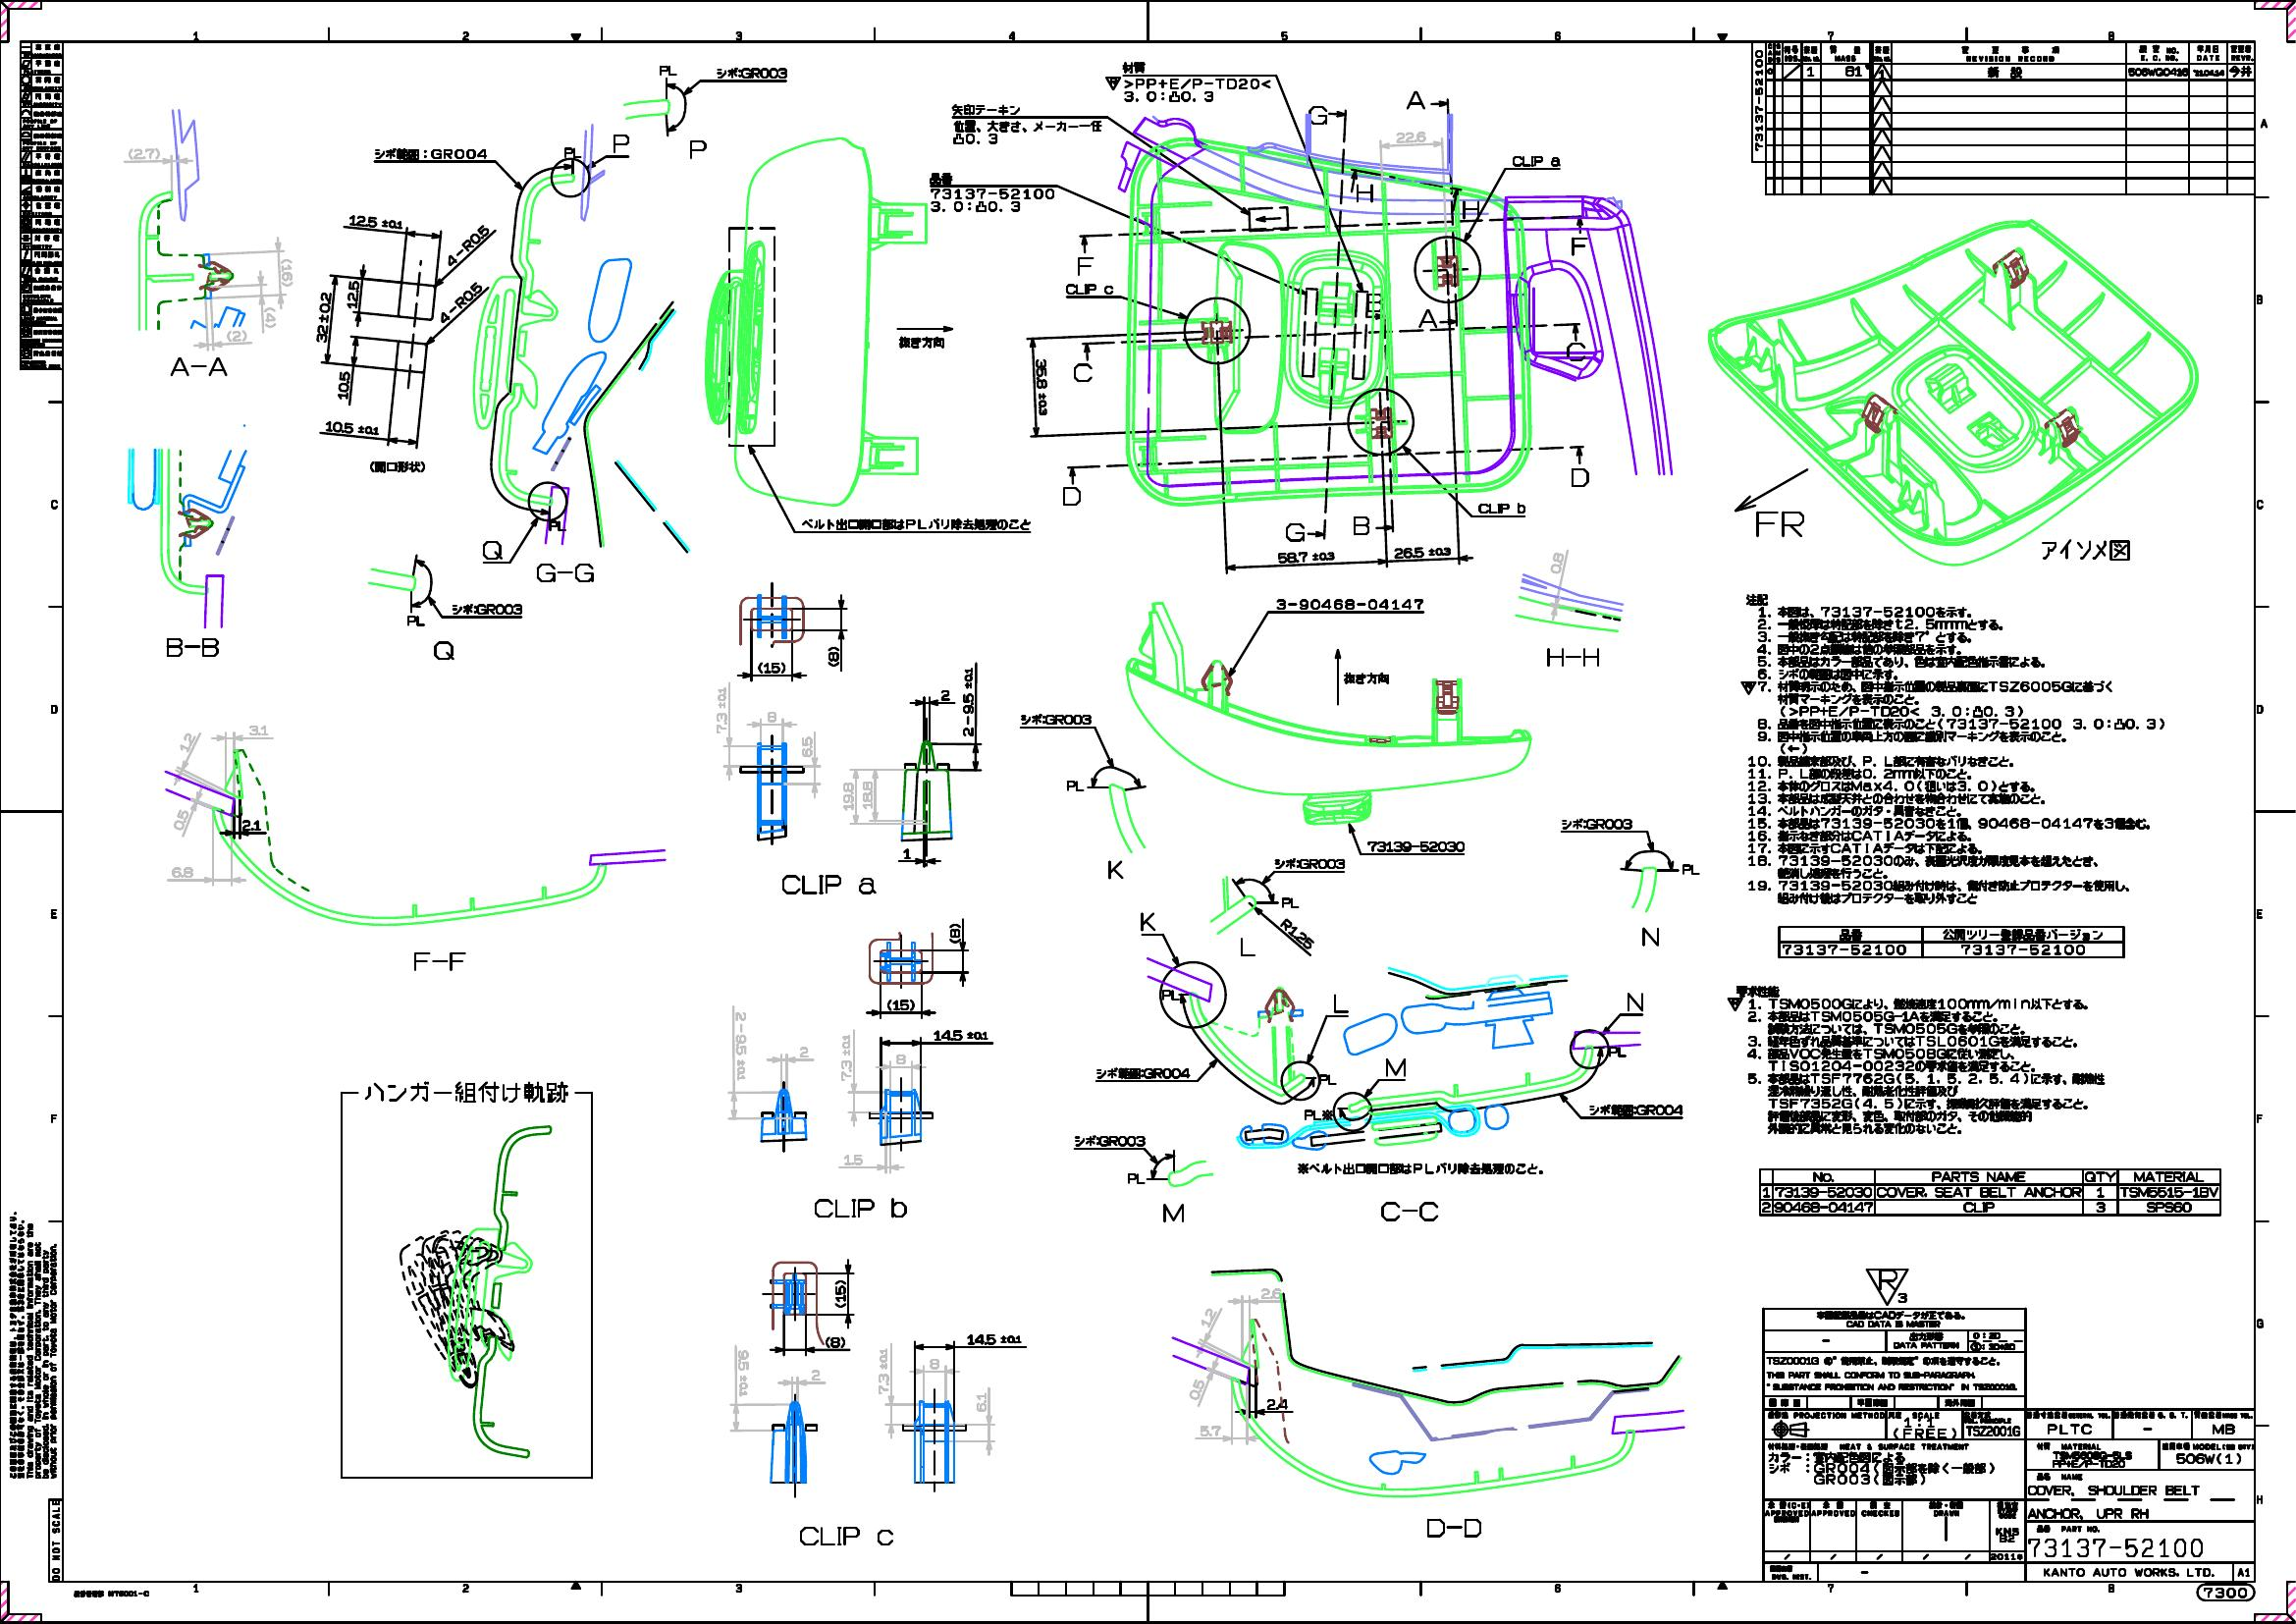anntotation_text: (1739, 591, 2166, 907), (1727, 984, 2105, 1135), (7, 1209, 60, 1480), (364, 1079, 569, 1104), (950, 102, 1105, 132), (1121, 60, 1272, 90), (801, 515, 1031, 531), (928, 170, 1056, 199), (1298, 1162, 1546, 1176), (780, 872, 878, 896), (812, 1197, 906, 1220), (2041, 540, 2131, 561), (1274, 598, 1423, 610), (799, 1526, 894, 1545), (1755, 508, 1806, 538), (1096, 1065, 1191, 1081), (169, 355, 230, 378), (374, 148, 488, 160), (1379, 1200, 1439, 1223), (1588, 1102, 1683, 1116), (1542, 645, 1600, 668), (1425, 1517, 1484, 1538), (413, 949, 466, 972), (1367, 840, 1463, 852), (163, 636, 220, 657), (536, 562, 596, 582), (1072, 1134, 1147, 1148), (2196, 1584, 2256, 1601), (715, 65, 787, 79), (1019, 712, 1091, 726), (450, 603, 523, 615), (1560, 817, 1632, 830), (1274, 858, 1346, 868), (369, 460, 427, 473), (72, 1589, 151, 1598), (1159, 1199, 1186, 1225), (1511, 155, 1560, 169), (1065, 281, 1114, 295), (1476, 501, 1525, 515), (1342, 671, 1390, 685), (899, 334, 945, 348), (1383, 1056, 1407, 1077), (432, 638, 455, 659), (1307, 104, 1328, 127), (1404, 90, 1426, 111), (1416, 308, 1439, 329), (1565, 341, 1588, 362), (1569, 466, 1590, 489), (481, 540, 502, 561), (1061, 485, 1082, 506), (1303, 1107, 1332, 1123), (1284, 522, 1307, 541), (1625, 990, 1643, 1014), (689, 139, 708, 160), (1460, 199, 1481, 218), (1351, 515, 1370, 536), (1107, 858, 1124, 881), (1073, 362, 1093, 381), (611, 132, 629, 153), (1356, 183, 1374, 204), (1075, 255, 1093, 276), (1365, 292, 1383, 313), (1570, 236, 1588, 257), (1238, 935, 1256, 956), (1641, 926, 1658, 947), (1332, 993, 1349, 1014), (1140, 909, 1156, 932), (1103, 74, 1123, 90), (1281, 895, 1300, 910), (1318, 1072, 1337, 1086), (1126, 1171, 1145, 1185), (657, 65, 678, 77), (562, 146, 581, 158), (1065, 779, 1084, 791), (1681, 861, 1700, 874), (406, 615, 427, 626), (1161, 990, 1179, 1000)
dimension_text: (1123, 90, 1214, 104), (929, 200, 1022, 213), (961, 666, 973, 738), (734, 1011, 747, 1081), (348, 214, 404, 228), (316, 290, 330, 343), (1277, 550, 1335, 562), (453, 274, 466, 330), (933, 1028, 989, 1040), (460, 218, 473, 272), (325, 422, 379, 434), (838, 1033, 852, 1081), (1393, 547, 1451, 557), (966, 1334, 1022, 1345), (950, 132, 998, 144), (715, 685, 727, 733), (738, 1348, 748, 1399), (878, 1348, 889, 1396), (346, 279, 360, 309), (337, 371, 350, 401), (841, 782, 854, 810), (1189, 1376, 1203, 1401), (1549, 550, 1563, 575), (1397, 132, 1426, 142), (863, 780, 873, 810), (1265, 1397, 1289, 1410), (843, 1153, 864, 1167), (1200, 1306, 1214, 1327), (132, 148, 155, 160), (801, 735, 813, 758), (1260, 1287, 1282, 1299), (181, 731, 193, 752), (174, 808, 186, 830), (241, 819, 262, 831), (1200, 1424, 1221, 1436), (170, 866, 193, 877), (975, 1392, 987, 1411), (248, 724, 269, 735), (281, 264, 293, 281), (834, 1285, 847, 1302), (892, 998, 908, 1011), (762, 663, 780, 673), (798, 1044, 810, 1058), (827, 650, 840, 663), (894, 1053, 906, 1065), (766, 710, 776, 722), (940, 689, 950, 701), (829, 1336, 840, 1348), (928, 1359, 940, 1369), (949, 928, 959, 939), (810, 1369, 820, 1380), (903, 847, 912, 859), (232, 330, 241, 341), (265, 313, 274, 322)
object: (1117, 114, 1674, 508), (1706, 216, 2201, 566), (1170, 1267, 1686, 1497), (1145, 956, 1643, 1149), (471, 121, 690, 554), (1124, 599, 1532, 826), (162, 747, 666, 926), (703, 137, 929, 508), (397, 1123, 552, 1459), (137, 107, 246, 330), (126, 446, 248, 629), (386, 225, 443, 448), (898, 696, 956, 868), (738, 733, 805, 847), (901, 1387, 966, 1492), (1514, 573, 1625, 633), (761, 1260, 824, 1345), (769, 1392, 819, 1497), (868, 1076, 933, 1151), (738, 580, 805, 649), (1086, 782, 1147, 852), (1209, 875, 1279, 935), (868, 932, 933, 990), (761, 1081, 808, 1153), (367, 554, 418, 613), (622, 77, 669, 137), (1620, 866, 1679, 914), (1145, 1149, 1214, 1186)
title_block: (1760, 1308, 2256, 1580), (1751, 39, 2256, 195), (1758, 1167, 2220, 1214), (19, 39, 63, 371), (1778, 924, 2124, 958)
